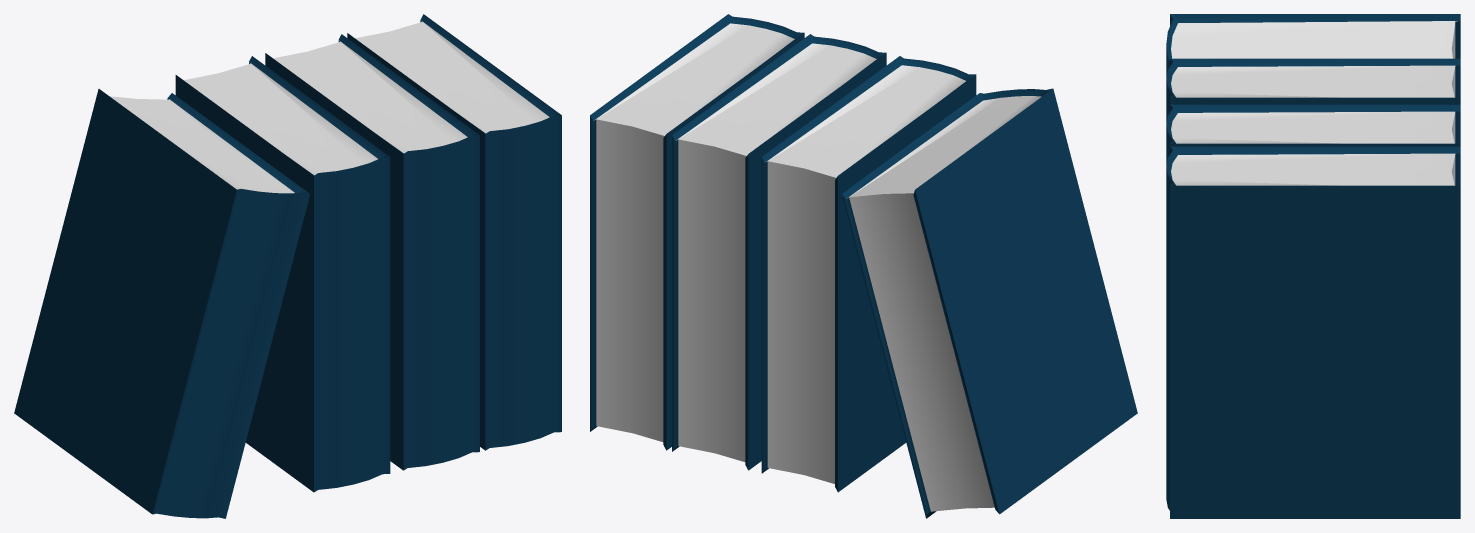
Rendered from book_in.fbx.
3 views of the same model, side by side, from view 1: azimuth 30°, elevation 25°; view 2: azimuth 150°, elevation 25°; view 3: azimuth 270°, elevation 25° (orthographic). The views are drawn at different scales.
Parts seen in each view (by area): view 1: pCube15, pCube14, pCube13, pCube12; view 2: pCube15, pCube14, pCube13, pCube12; view 3: pCube12, pCube14, pCube15, pCube13.
Boxes of the visible parts, left/top/right/bottom form: pCube15: left=14, top=89, right=310, bottom=518; pCube14: left=175, top=56, right=390, bottom=492; pCube13: left=265, top=34, right=479, bottom=470; pCube12: left=347, top=14, right=561, bottom=450; pCube15: left=841, top=88, right=1137, bottom=518; pCube14: left=761, top=56, right=976, bottom=492; pCube13: left=672, top=34, right=886, bottom=470; pCube12: left=590, top=14, right=804, bottom=450; pCube12: left=1166, top=146, right=1460, bottom=518; pCube14: left=1166, top=58, right=1460, bottom=122; pCube15: left=1166, top=14, right=1460, bottom=76; pCube13: left=1166, top=104, right=1460, bottom=164.
Size of the model in its own units: 0.3863 by 0.2944 by 0.2287.
